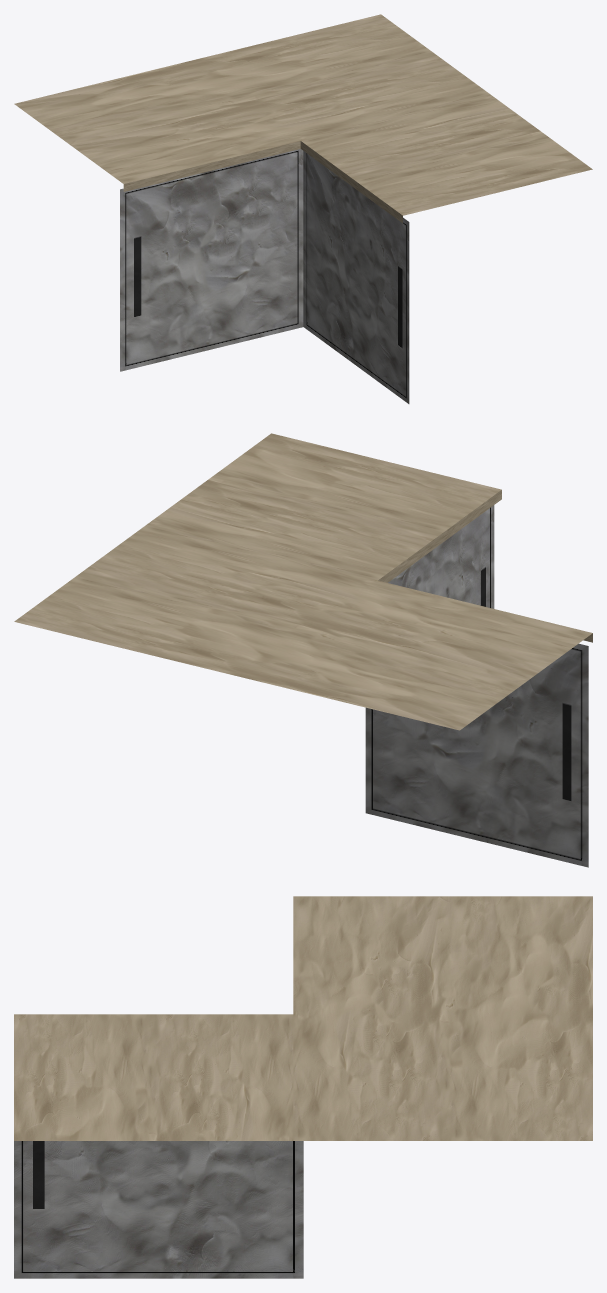
File: worktopcorner01.fbx
The picture shows the model from 3 angles, top to bottom: view 1: azimuth 30°, elevation 25°; view 2: azimuth 150°, elevation 25°; view 3: azimuth 270°, elevation 25°; orthographic projection. The views are drawn at different scales.
Visible parts, largest first — view 1: WorkTopCorner; view 2: WorkTopCorner; view 3: WorkTopCorner.
Boxes of the visible parts, x1,y1,x2,y2 form: WorkTopCorner: [14, 14, 592, 403]; WorkTopCorner: [14, 433, 592, 867]; WorkTopCorner: [14, 896, 592, 1278].
Bounding box in the file's own units: 2 × 0.9913 × 2.
1 material, 1 textured.
